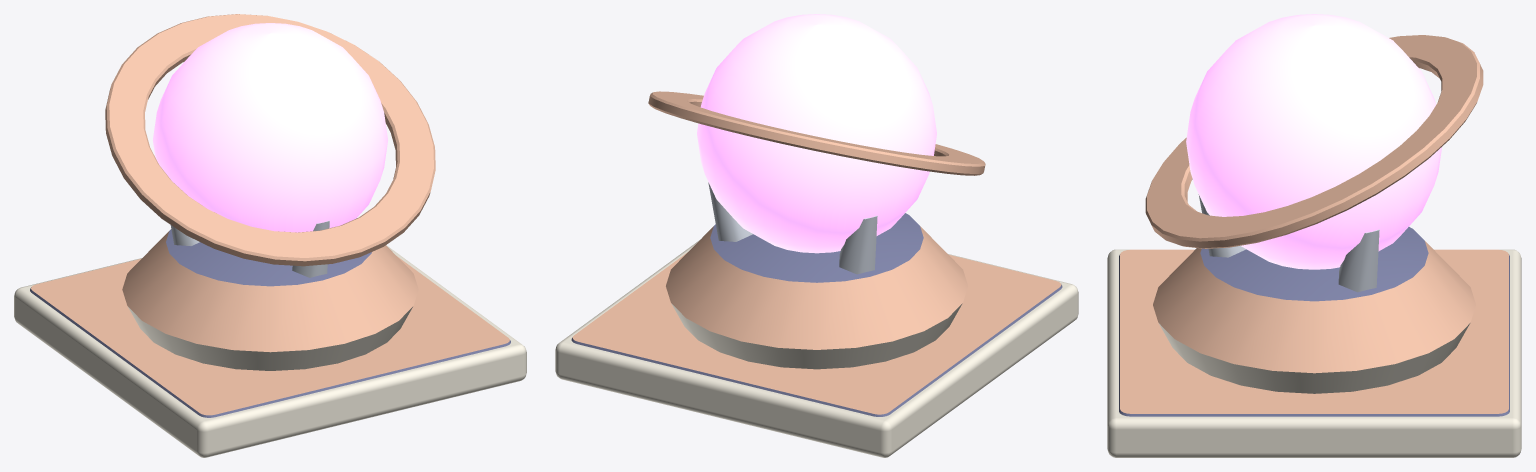
Rendered from R4X_OrbAmplifier.fbx.
3 renders of one model, left to right at view 1: azimuth 30°, elevation 25°; view 2: azimuth 150°, elevation 25°; view 3: azimuth 270°, elevation 25°, orthographic. The views are drawn at different scales.
Visible parts, largest first — view 1: R4X_OrbAmplifier_Body, R4X_OrbAmplifier_Ring; view 2: R4X_OrbAmplifier_Body, R4X_OrbAmplifier_Ring; view 3: R4X_OrbAmplifier_Body, R4X_OrbAmplifier_Ring.
Boxes of the visible parts, x1,y1,x2,y2 form: R4X_OrbAmplifier_Body: [14, 23, 526, 457]; R4X_OrbAmplifier_Ring: [105, 14, 435, 266]; R4X_OrbAmplifier_Body: [555, 14, 1078, 457]; R4X_OrbAmplifier_Ring: [648, 91, 985, 175]; R4X_OrbAmplifier_Body: [1107, 14, 1521, 457]; R4X_OrbAmplifier_Ring: [1145, 35, 1483, 248].
Bounding box in the file's own units: 0.514 × 0.4793 × 0.514.
